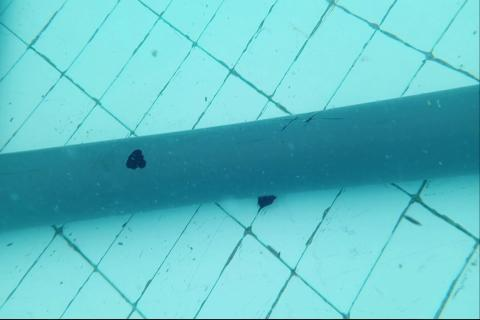kebocoran: (125, 147, 146, 170)
keretakan: (272, 113, 344, 132)
